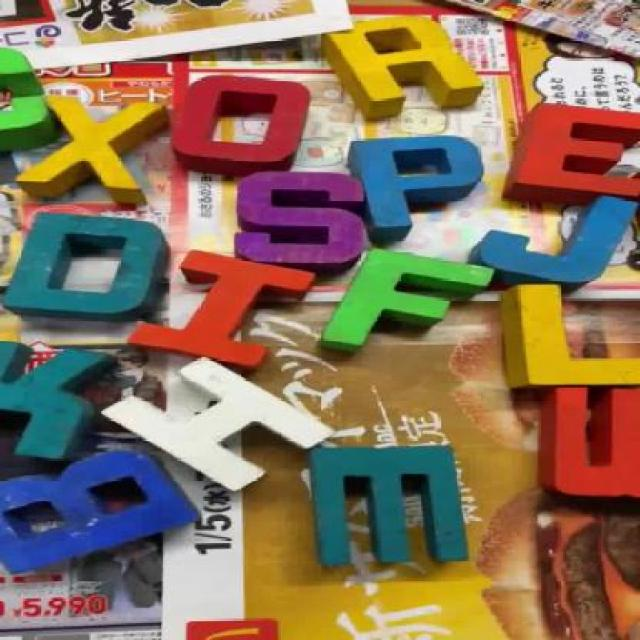D: (10, 211, 161, 314)
E: (511, 102, 640, 201)
F: (328, 252, 500, 358)
H: (110, 360, 338, 489)
I: (154, 254, 314, 366)
J: (487, 198, 636, 288)
L: (497, 280, 638, 392)
M: (318, 447, 477, 568)
O: (169, 76, 316, 166)
P: (351, 137, 491, 232)
R: (324, 18, 488, 113)
S: (232, 174, 368, 269)
X: (24, 94, 165, 194)
